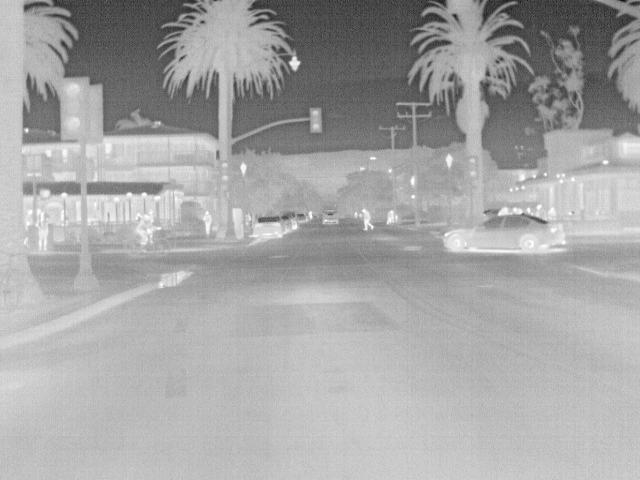car: (446, 214, 564, 256), (253, 214, 284, 239), (320, 207, 340, 226), (275, 214, 291, 234), (295, 213, 308, 224)
person: (137, 212, 156, 248), (37, 216, 52, 251), (359, 207, 376, 233), (201, 209, 215, 238)
